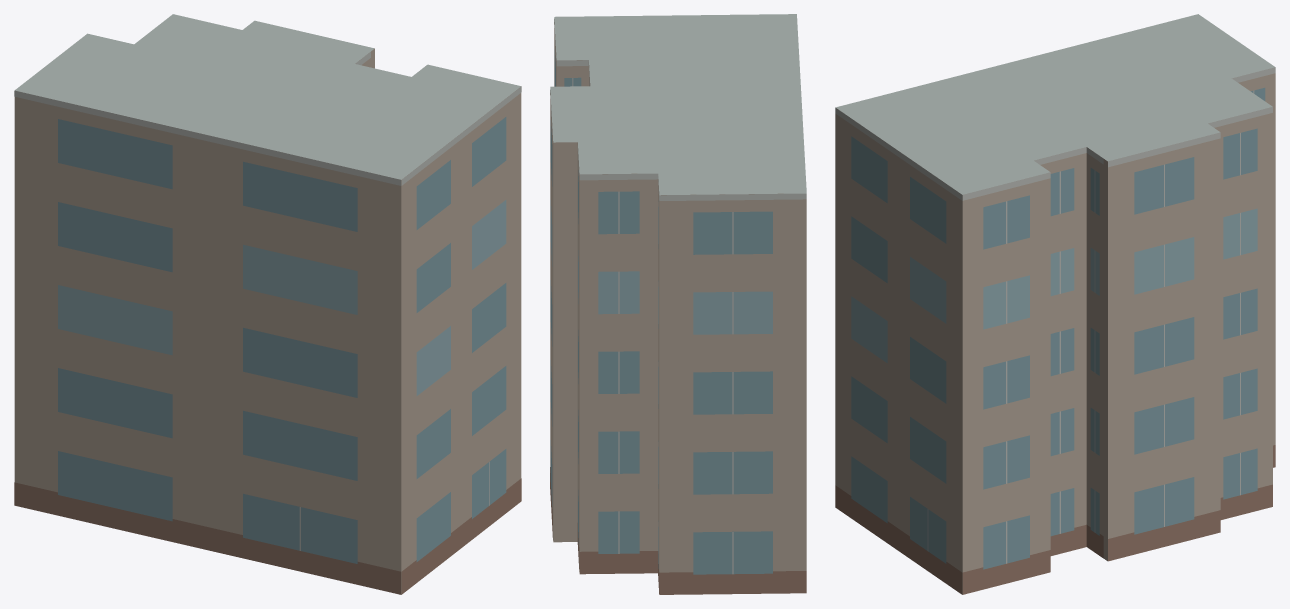
Rendered from survey-upis-32530823.glb.
3 views of the same model, side by side, from view 1: azimuth 30°, elevation 25°; view 2: azimuth 150°, elevation 25°; view 3: azimuth 270°, elevation 25° (orthographic). The views are drawn at different scales.
Parts seen in each view (by area): view 1: survey-upis-32530823.tmp; view 2: survey-upis-32530823.tmp; view 3: survey-upis-32530823.tmp.
Part boxes in pixels (x1,y1,x2,y2): survey-upis-32530823.tmp: [14, 14, 521, 594]; survey-upis-32530823.tmp: [550, 14, 806, 594]; survey-upis-32530823.tmp: [835, 14, 1275, 594].
Bounding box in the file's own units: 15.82 × 16.3 × 16.27.
